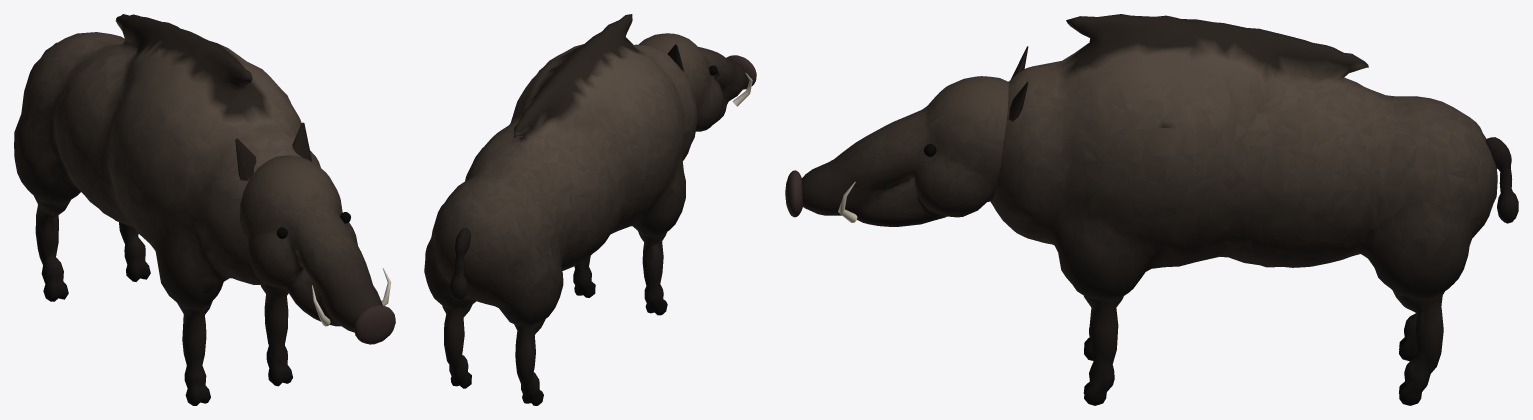
File: boar.glb
3 renders of one model, left to right at view 1: azimuth 30°, elevation 25°; view 2: azimuth 150°, elevation 25°; view 3: azimuth 270°, elevation 25°, orthographic. The views are drawn at different scales.
Parts seen in each view (by area): view 1: body, head, leg3, leg1, leg0, leg2; view 2: body, head, leg3, leg2, leg1, leg0; view 3: body, head, leg2, leg0.
Part boxes in pixels (x1=…): body: x1=14, y1=14, x2=320, y2=309; head: x1=235, y1=122, x2=395, y2=344; leg3: x1=34, y1=196, x2=70, y2=301; leg1: x1=177, y1=301, x2=212, y2=405; leg0: x1=260, y1=284, x2=292, y2=386; leg2: x1=119, y1=222, x2=150, y2=281; body: x1=424, y1=14, x2=697, y2=327; head: x1=626, y1=33, x2=756, y2=131; leg3: x1=514, y1=319, x2=545, y2=405; leg2: x1=442, y1=304, x2=472, y2=388; leg1: x1=638, y1=231, x2=667, y2=315; leg0: x1=573, y1=256, x2=595, y2=297; body: x1=990, y1=14, x2=1518, y2=300; head: x1=785, y1=46, x2=1028, y2=226; leg2: x1=1392, y1=290, x2=1444, y2=405; leg0: x1=1083, y1=295, x2=1123, y2=405.
Bounding box in the file's own units: 0.5162 × 0.9992 × 1.82.
